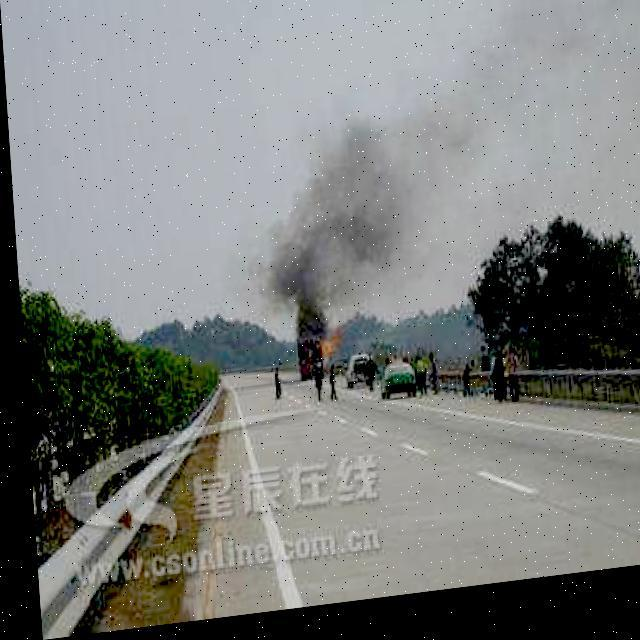Fire: (312, 340, 336, 366)
